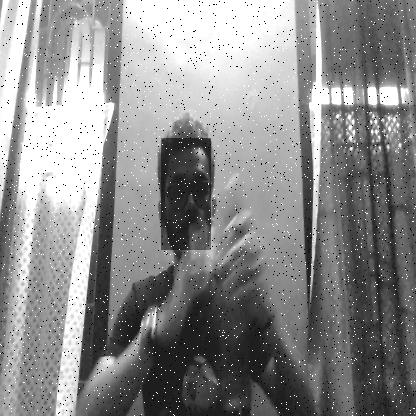Normal: (161, 138, 211, 250)
